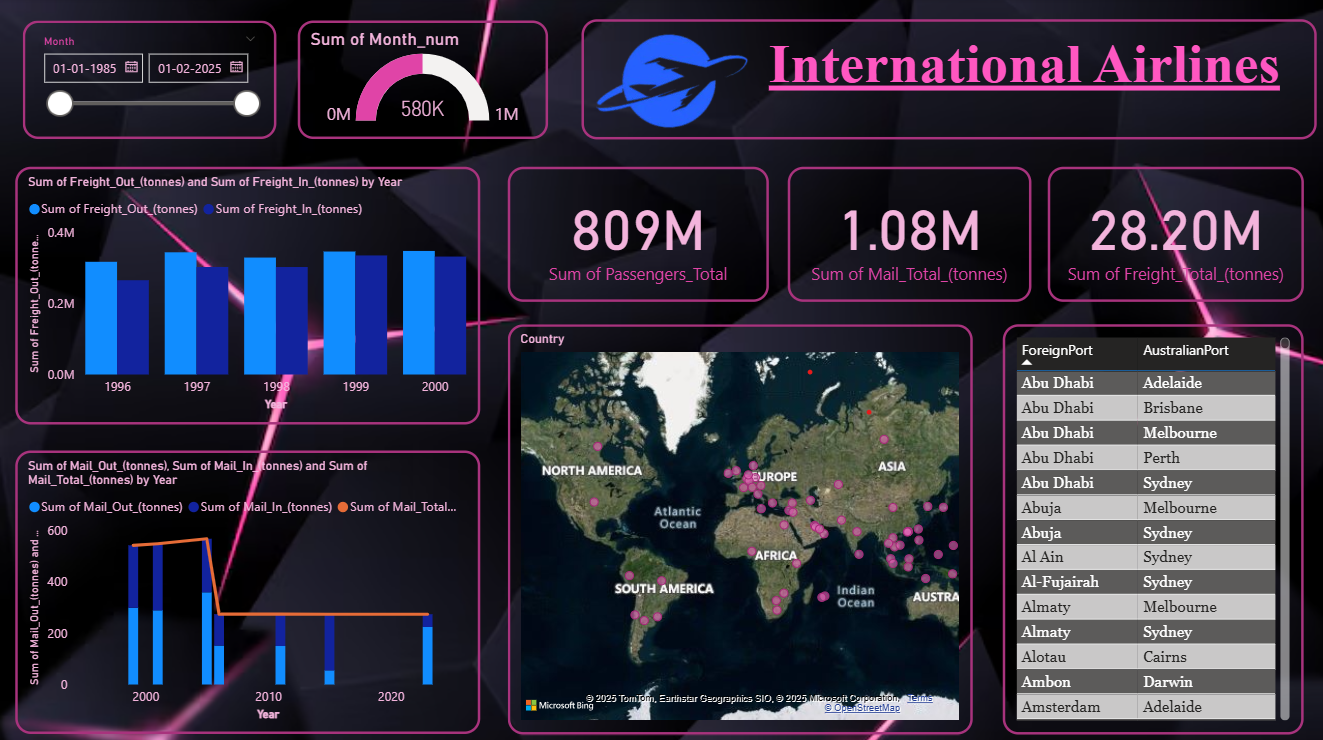

The dashboard page shown, as its layout file describes it:
{"tool":"powerbi","page":{"name":"Page 1","canvas":[1280,720],"ordinal":0},"visuals":[{"type":"map","fields":{"Category":["city_pairs.Country"]},"box":[491,314.9,448.8,395.7],"z":0},{"type":"slicer","fields":{"Values":["city_pairs.Month"]},"box":[22.9,21.7,244.9,114.6],"z":1000},{"type":"lineStackedColumnComboChart","fields":{"Category":["city_pairs.Year"],"Y":["Sum(city_pairs.Mail_Out_(tonnes))","Sum(city_pairs.Mail_In_(tonnes))"],"Y2":["Sum(city_pairs.Mail_Total_(tonnes))"]},"box":[15.7,436.7,448.8,273.9],"z":2000},{"type":"tableEx","fields":{"Values":["city_pairs.ForeignPort","city_pairs.AustralianPort"]},"box":[968.8,314.9,290.8,395.7],"z":3000},{"type":"textbox","box":[562.2,20.5,709.4,115.8],"z":4000},{"type":"card","fields":{"Values":["Sum(city_pairs.Freight_Total_(tonnes))"]},"box":[1012.2,162.9,247.3,130.3],"z":5000},{"type":"card","fields":{"Values":["Sum(city_pairs.Passengers_Total)"]},"box":[491,162.9,252.1,130.3],"z":6000},{"type":"lineClusteredColumnComboChart","fields":{"Category":["city_pairs.Year"],"Y":["Sum(city_pairs.Freight_Out_(tonnes))","Sum(city_pairs.Freight_In_(tonnes))"]},"box":[15.7,162.9,448.8,248.5],"z":7000},{"type":"card","fields":{"Values":["Sum(city_pairs.Mail_Total_(tonnes))"]},"box":[761.3,162.9,235.3,130.3],"z":8000},{"type":"image","box":[518.8,8.4,257,138.7],"z":9000},{"type":"gauge","fields":{"Y":["Sum(city_pairs.Month_num)"]},"box":[288.3,21.7,241.3,114.6],"z":10000}]}

Visuals, with their boxes in screenshot pixels (x1, y1, x2, y2), scaled from the page's 1280x720 canvas onto the 1323x740 screenshot:
map - city_pairs.Country: [x1=507, y1=324, x2=971, y2=730]
slicer - city_pairs.Month: [x1=24, y1=22, x2=277, y2=140]
lineStackedColumnComboChart - city_pairs.Year x Sum(city_pairs.Mail_Out_(tonnes)): [x1=16, y1=449, x2=480, y2=730]
tableEx - city_pairs.ForeignPort x city_pairs.AustralianPort: [x1=1001, y1=324, x2=1302, y2=730]
textbox: [x1=581, y1=21, x2=1314, y2=140]
card - Sum(city_pairs.Freight_Total_(tonnes)): [x1=1046, y1=167, x2=1302, y2=301]
card - Sum(city_pairs.Passengers_Total): [x1=507, y1=167, x2=768, y2=301]
lineClusteredColumnComboChart - city_pairs.Year x Sum(city_pairs.Freight_Out_(tonnes)): [x1=16, y1=167, x2=480, y2=423]
card - Sum(city_pairs.Mail_Total_(tonnes)): [x1=787, y1=167, x2=1030, y2=301]
image: [x1=536, y1=9, x2=802, y2=151]
gauge - Sum(city_pairs.Month_num): [x1=298, y1=22, x2=547, y2=140]
